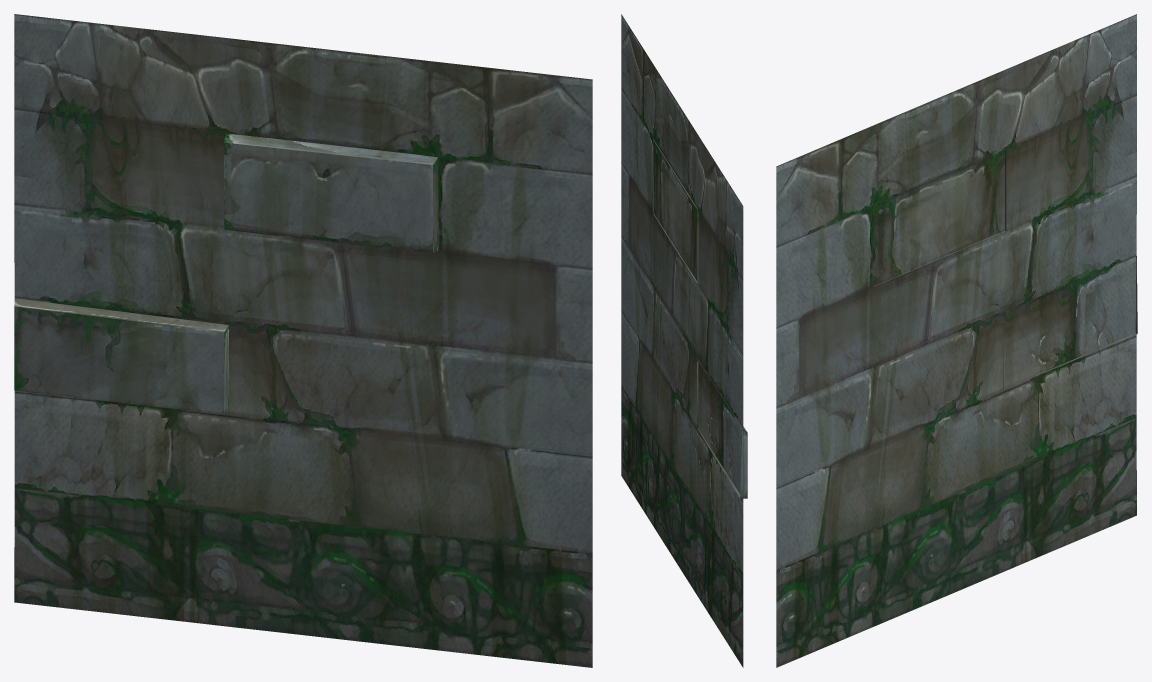
Rendered from stemple_wall_diagonal_06.fbx.
3 renders of one model, left to right at view 1: azimuth 30°, elevation 25°; view 2: azimuth 150°, elevation 25°; view 3: azimuth 270°, elevation 25°, orthographic. The views are drawn at different scales.
Parts seen in each view (by area): view 1: obj2.007; view 2: obj2.007; view 3: obj2.007.
Part boxes in pixels (x1=…): obj2.007: x1=14, y1=14, x2=592, y2=667; obj2.007: x1=621, y1=14, x2=747, y2=667; obj2.007: x1=776, y1=14, x2=1137, y2=667.
Bounding box in the file's own units: 3.61 × 5.5 × 3.59.
